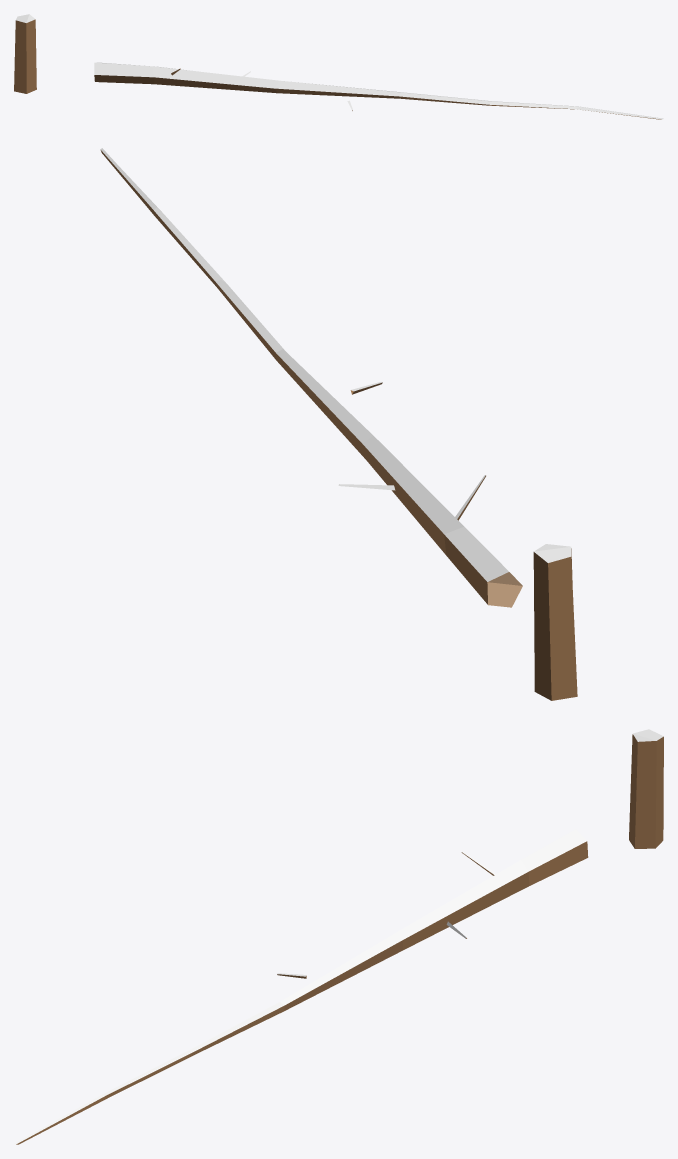
Rendered from Pine_Tree_NoLeaves_crk_l_Snow_BT_09.fbx.
The picture shows the model from 3 angles, top to bottom: view 1: azimuth 30°, elevation 25°; view 2: azimuth 150°, elevation 25°; view 3: azimuth 270°, elevation 25°; orthographic projection. The views are drawn at different scales.
Visible parts, largest first — view 1: Pine_Tree_NoLeaves_crk_l_Snow_BT_09; view 2: Pine_Tree_NoLeaves_crk_l_Snow_BT_09; view 3: Pine_Tree_NoLeaves_crk_l_Snow_BT_09.
Part boxes in pixels (left/top/right/bottom): Pine_Tree_NoLeaves_crk_l_Snow_BT_09: left=14, top=14, right=663, bottom=119; Pine_Tree_NoLeaves_crk_l_Snow_BT_09: left=100, top=148, right=577, bottom=700; Pine_Tree_NoLeaves_crk_l_Snow_BT_09: left=14, top=729, right=663, bottom=1144.
Size of the model in its own units: 1519 by 230 by 1255.
